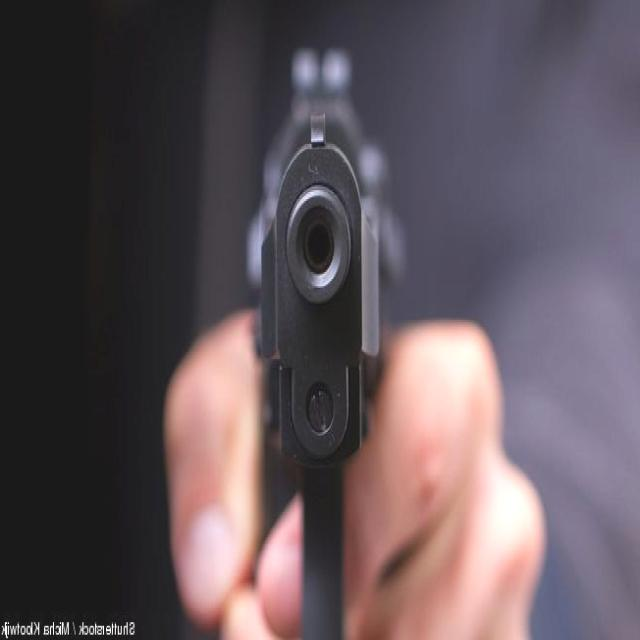pistol: (243, 43, 398, 638)
